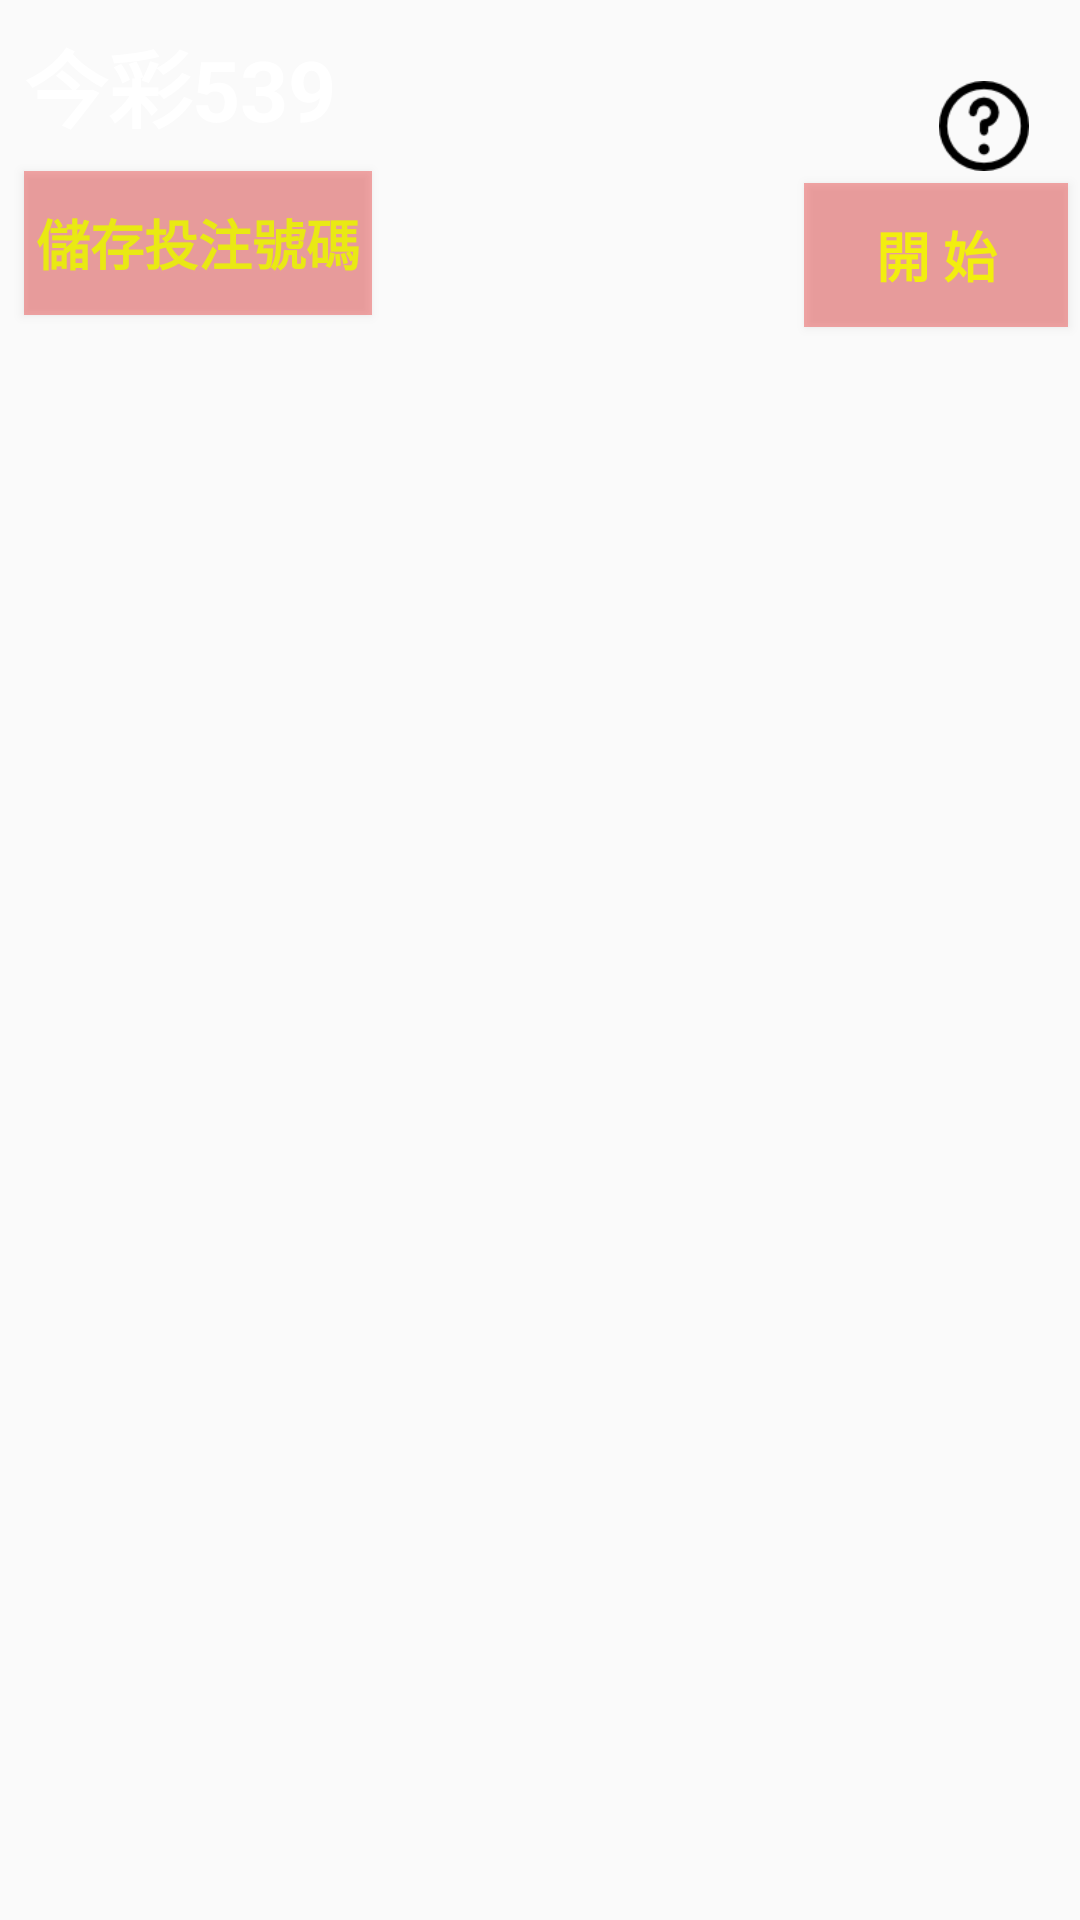

Named icons in this screenshot (1080 x 1920) and their centers, [x,y]:
help: [984,126]
